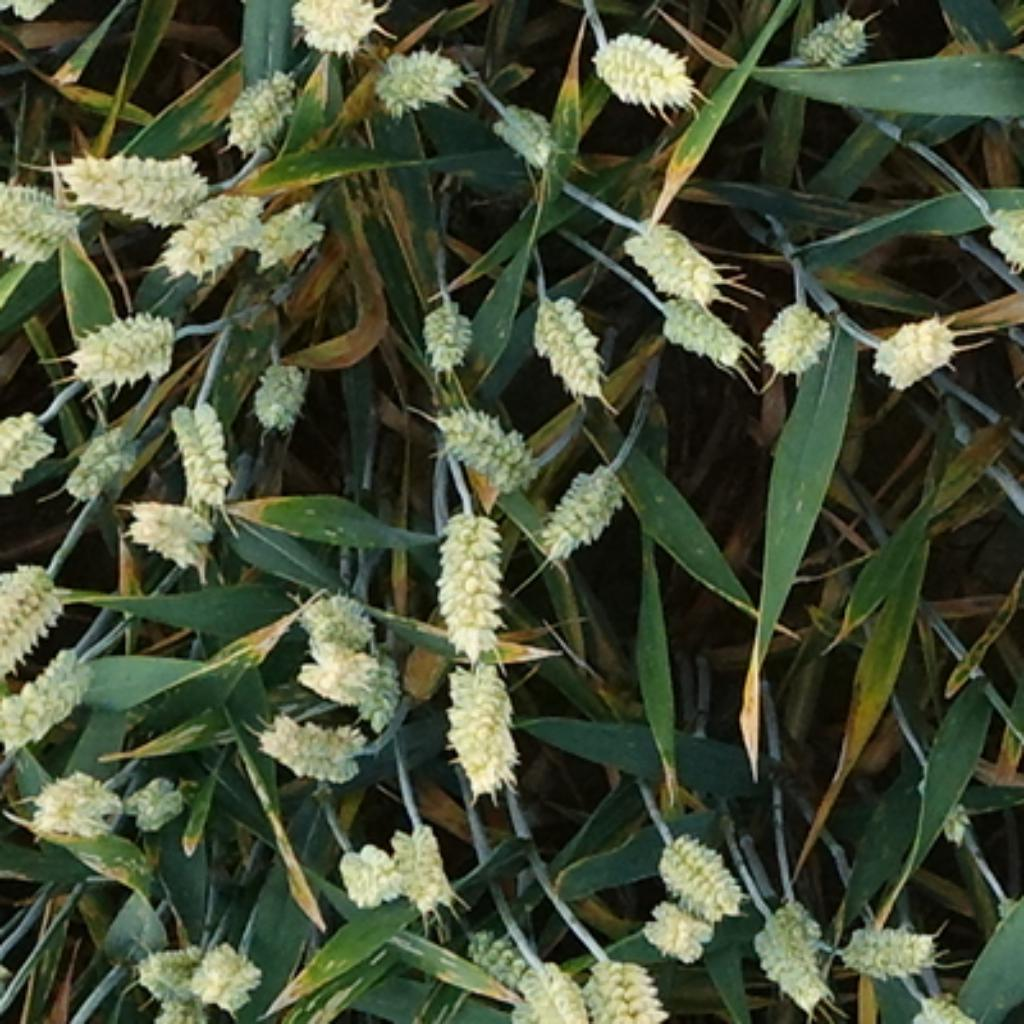0-0: (427, 494, 517, 650), (58, 135, 217, 222), (435, 650, 520, 796), (155, 181, 268, 283), (64, 302, 184, 395), (427, 389, 540, 486), (532, 445, 634, 552), (590, 26, 708, 118), (2, 634, 99, 742), (530, 284, 619, 399), (616, 202, 724, 296), (296, 624, 407, 711), (253, 701, 368, 778), (2, 552, 71, 675), (453, 913, 552, 998), (750, 919, 832, 1018), (653, 835, 745, 922), (161, 396, 235, 504), (371, 811, 455, 906), (28, 757, 122, 837), (834, 906, 942, 975), (220, 56, 302, 145), (0, 168, 76, 263), (870, 314, 962, 391), (366, 33, 465, 104), (64, 409, 145, 494), (187, 938, 274, 1015), (576, 949, 665, 1024), (655, 296, 747, 368), (117, 931, 202, 1008), (332, 826, 417, 901), (125, 486, 217, 555), (759, 296, 836, 378), (294, 581, 381, 652), (483, 89, 560, 163), (789, 6, 876, 70), (245, 345, 314, 424), (414, 299, 478, 381), (512, 957, 588, 1024), (770, 893, 832, 975), (2, 407, 53, 504), (913, 775, 977, 852), (251, 200, 320, 269), (641, 899, 715, 963), (284, 0, 381, 48), (977, 192, 1024, 273), (125, 768, 189, 826)
